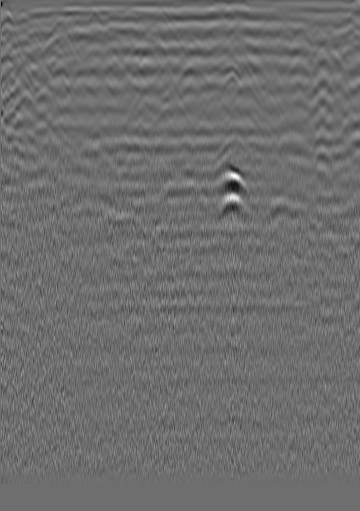가스: (207, 190, 254, 218)
상수: (311, 33, 331, 53)
오수: (24, 42, 44, 62)
우수: (177, 28, 197, 48)
